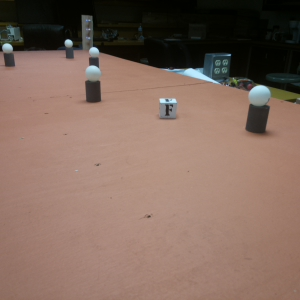blockF: (158, 96, 179, 119)
corner: (82, 13, 94, 49)
obstacle: (245, 84, 272, 134), (85, 64, 101, 105), (1, 44, 17, 67), (87, 46, 99, 73), (63, 37, 74, 59)
